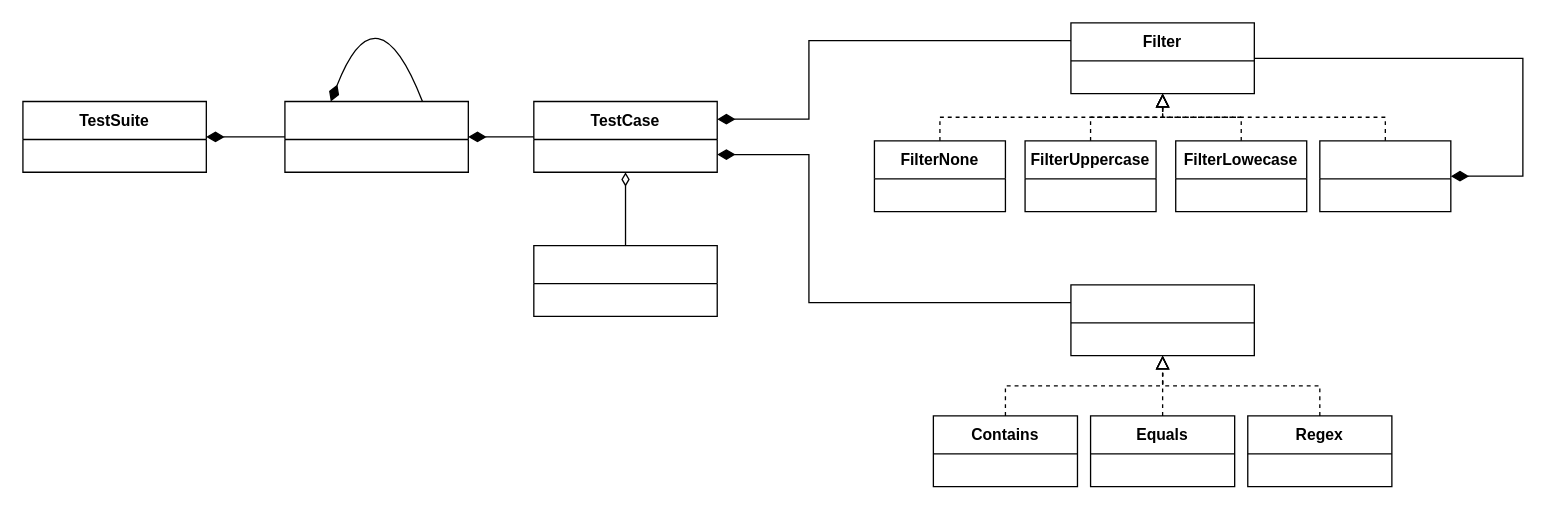
This 1564x510 diagram has some shape labels left out. Here are the shapes that lost their labels. From the top down, the centre of each, then its label:
At (x=376, y=136): "TestGroup".
At (x=1385, y=176): "Filters".
At (x=625, y=280): "Executable".
At (x=1162, y=320): "MatchBase".
